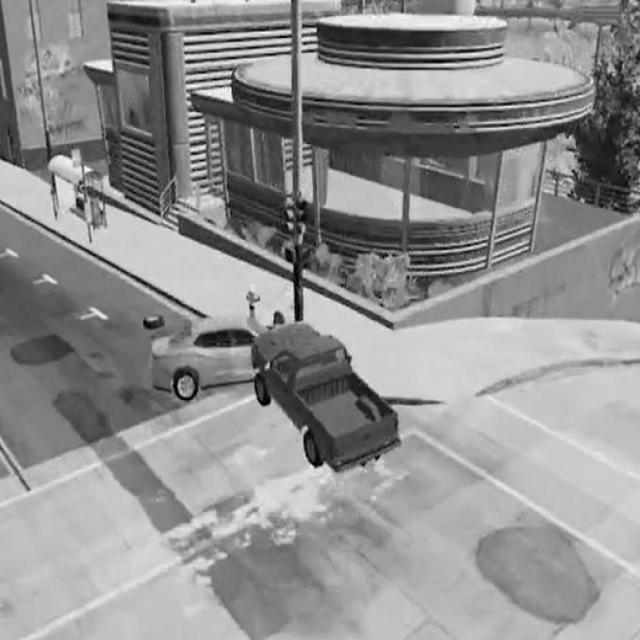accident: (148, 308, 402, 478)
